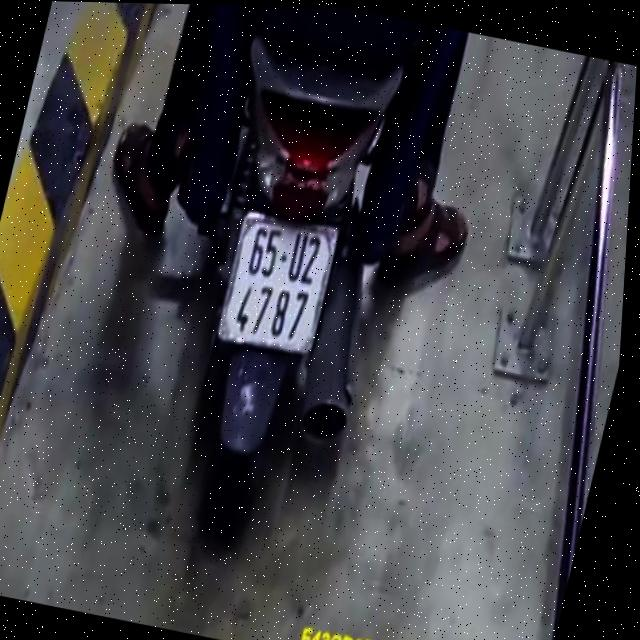motorcycle: (109, 15, 442, 570)
plate: (205, 204, 348, 362)
